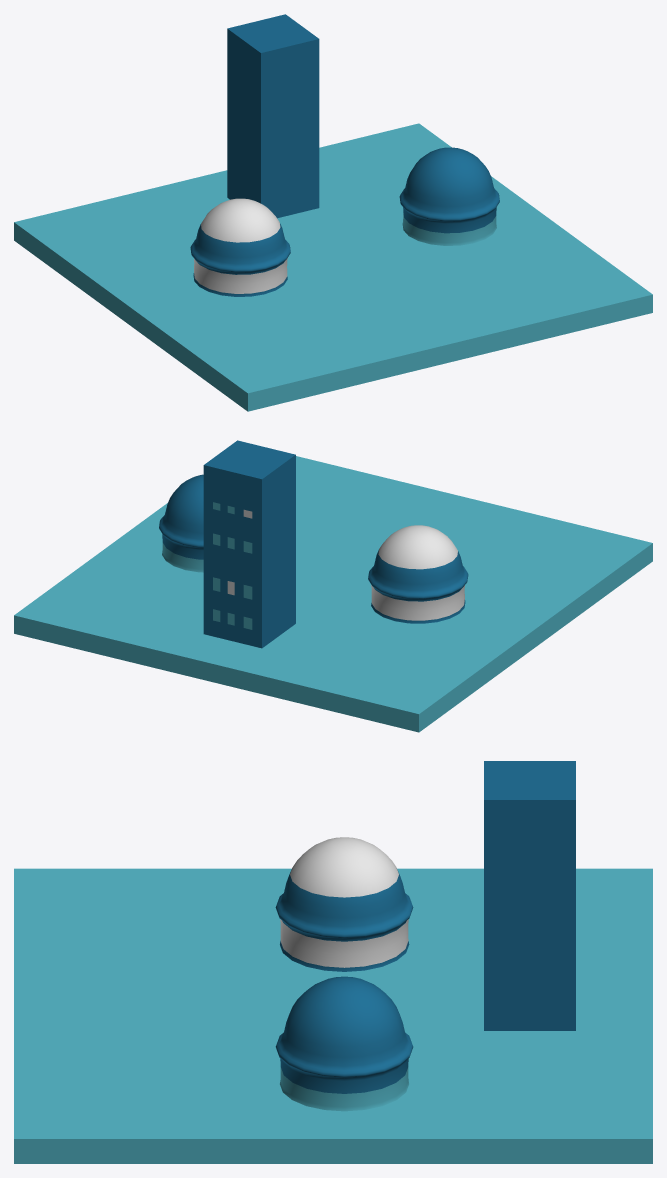
The model's file is factory_building-12.gltf.
The picture shows the model from 3 angles, top to bottom: view 1: azimuth 30°, elevation 25°; view 2: azimuth 150°, elevation 25°; view 3: azimuth 270°, elevation 25°; orthographic projection. The views are drawn at different scales.
Parts seen in each view (by area): view 1: pCube9, pCube32, pSphere10, pSphere9; view 2: pCube9, pCube32, pSphere10, pSphere9; view 3: pCube9, pCube32, pSphere10, pSphere9.
Part boxes in pixels (x1,y1,x2,y2): pCube9: (14,123,652,411); pCube32: (227,14,319,218); pSphere10: (190,198,290,296); pSphere9: (399,147,499,245); pCube9: (14,456,652,732); pCube32: (203,440,295,648); pSphere10: (368,525,468,623); pSphere9: (159,474,203,572); pCube9: (14,868,652,1163); pCube32: (484,761,575,1030); pSphere10: (275,837,413,971); pSphere9: (275,976,413,1111).
Size of the model in its own units: 1.47 by 0.6921 by 1.47.
